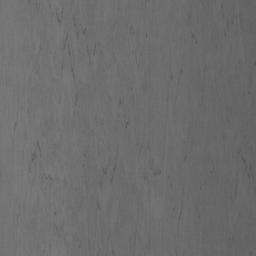Silk spot: (12, 0, 172, 256), (187, 3, 242, 51), (223, 136, 256, 200), (199, 64, 216, 105), (239, 56, 256, 96), (167, 69, 183, 103), (171, 207, 200, 224)
